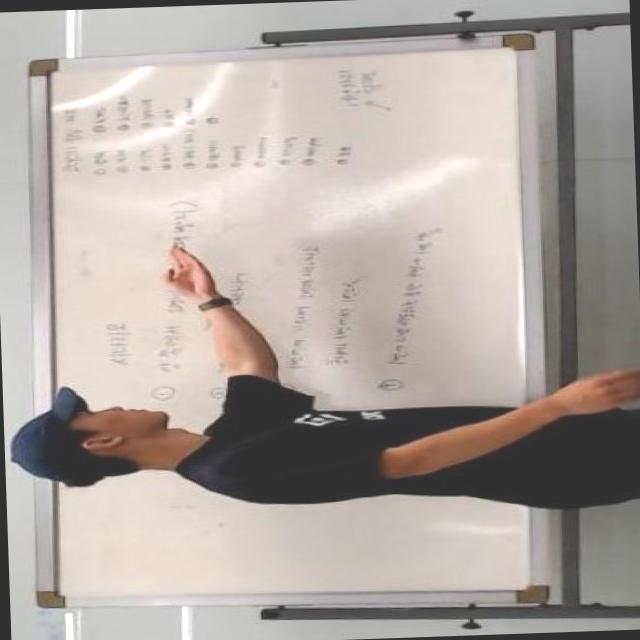Instructor: (16, 374, 602, 524)
White-board: (33, 36, 539, 601)
